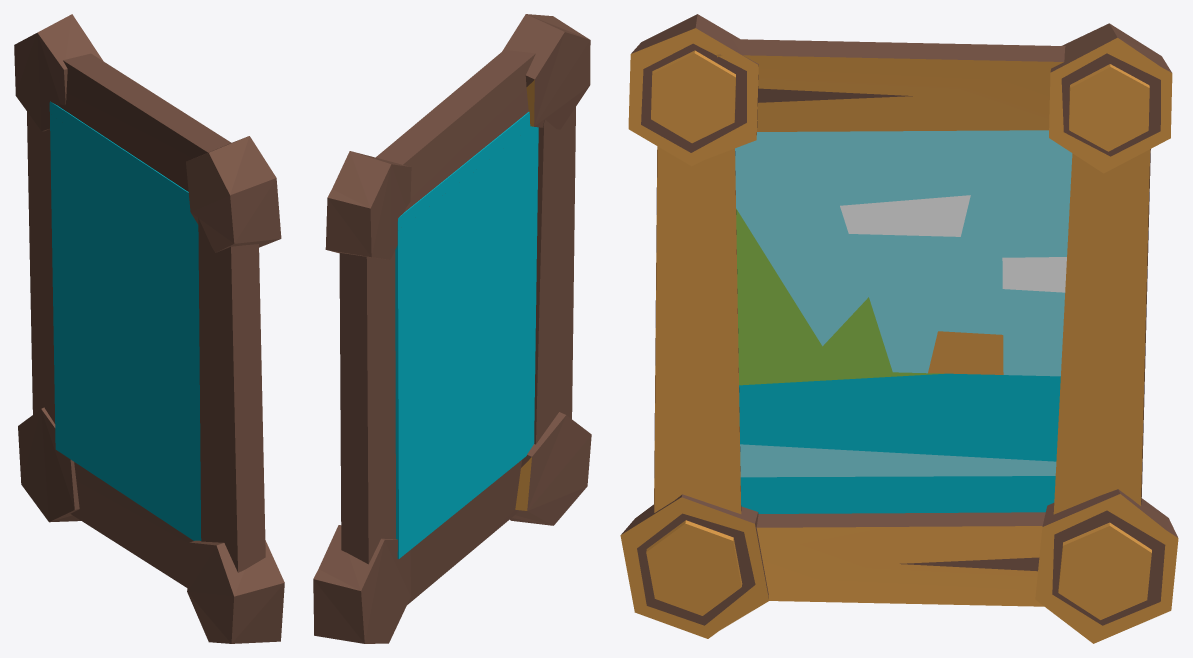
Rendered from design.glb.
3 renders of one model, left to right at view 1: azimuth 30°, elevation 25°; view 2: azimuth 150°, elevation 25°; view 3: azimuth 270°, elevation 25°, orthographic. The views are drawn at different scales.
Parts seen in each view (by area): view 1: Painting; view 2: Painting; view 3: Painting.
Boxes of the visible parts, <box> form: Painting: <box>14,14,284,643</box>; Painting: <box>313,14,591,643</box>; Painting: <box>620,14,1178,643</box>.
Size of the model in its own units: 0.1158 by 0.9046 by 0.7531.
